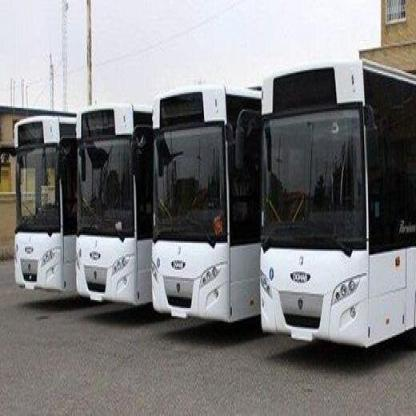Bus: (258, 43, 416, 346), (150, 73, 256, 332), (76, 87, 151, 313), (14, 93, 75, 302)
